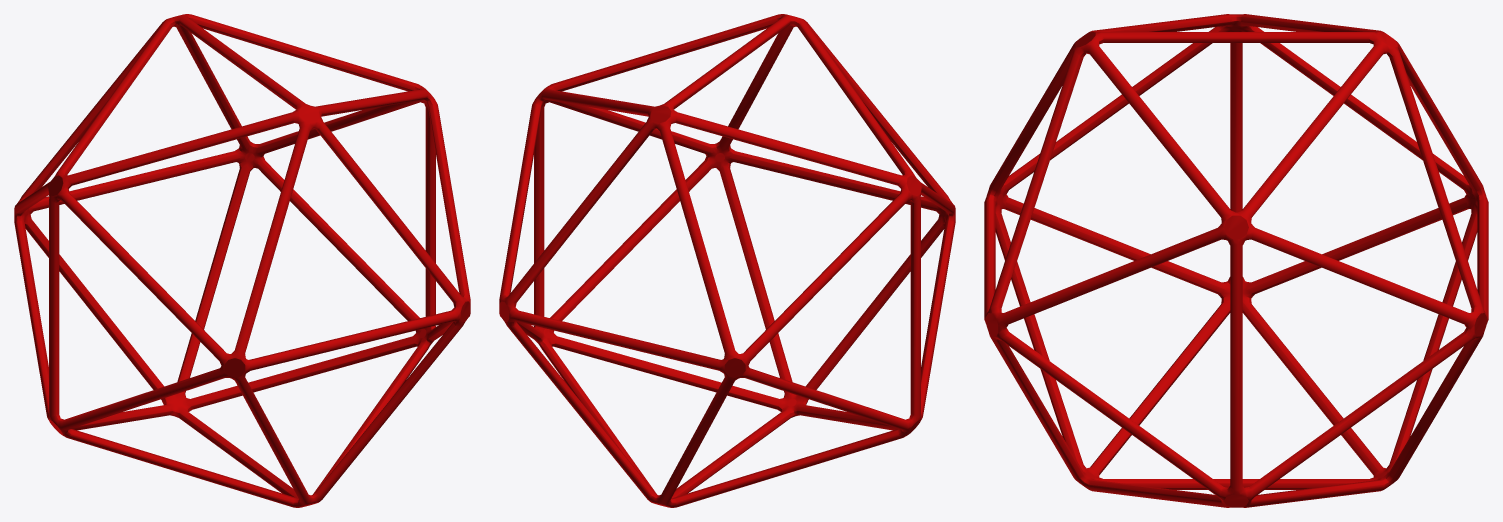
File: poligono2.gltf
The picture shows the model from 3 angles, left to right: view 1: azimuth 30°, elevation 25°; view 2: azimuth 150°, elevation 25°; view 3: azimuth 270°, elevation 25°; orthographic projection. The views are drawn at different scales.
Parts seen in each view (by area): view 1: Polyhedron_wireframe; view 2: Polyhedron_wireframe; view 3: Polyhedron_wireframe.
Part boxes in pixels (bbox=[...]): Polyhedron_wireframe: bbox=[14, 14, 470, 507]; Polyhedron_wireframe: bbox=[499, 14, 955, 507]; Polyhedron_wireframe: bbox=[984, 14, 1488, 507].
Size of the model in its own units: 188 by 188 by 188.
